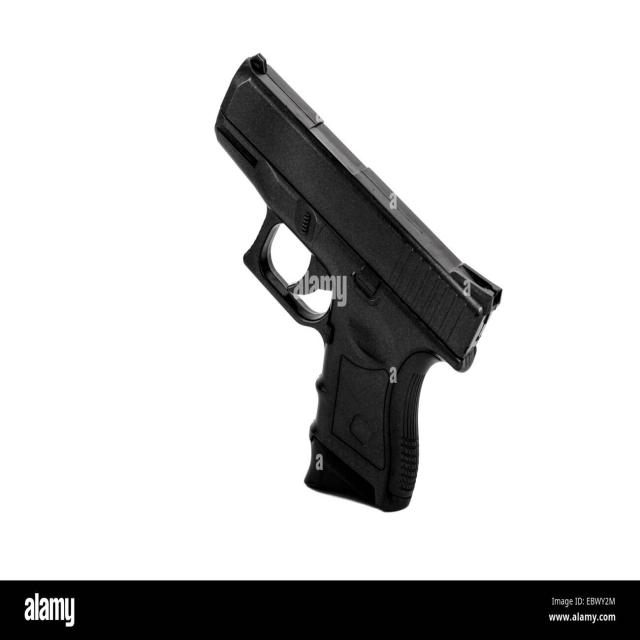HandGun: (214, 54, 503, 515)
